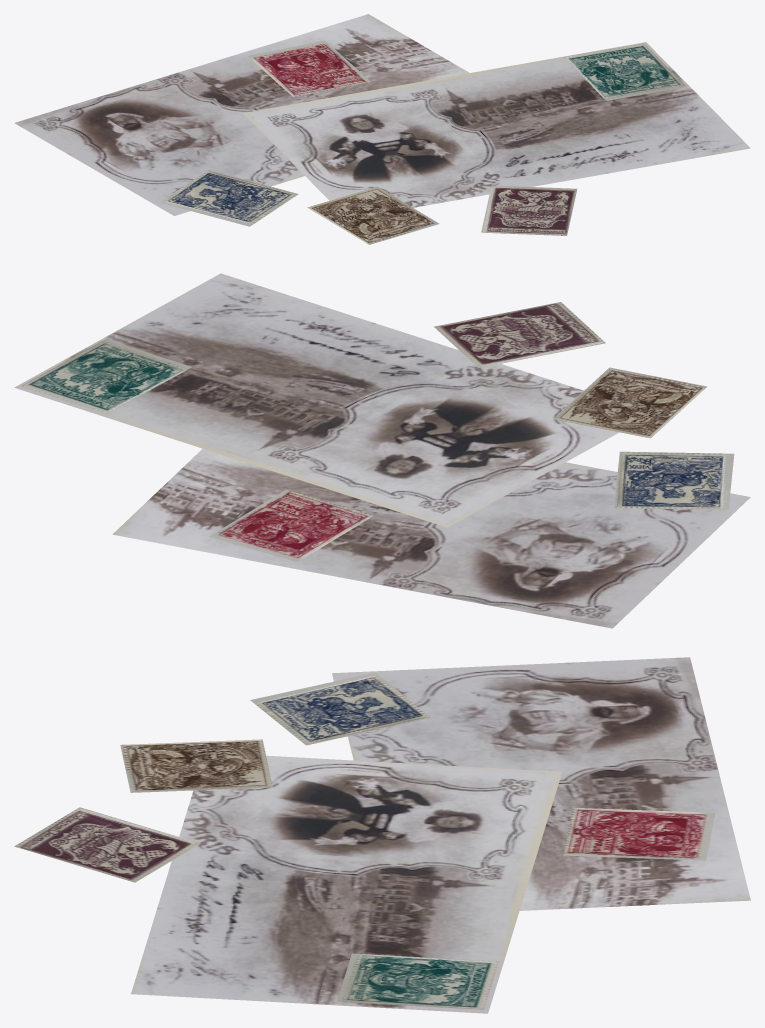
File: SM_Cartetimbre.fbx
3 renders of one model, top to bottom at view 1: azimuth 30°, elevation 25°; view 2: azimuth 150°, elevation 25°; view 3: azimuth 270°, elevation 25°, orthographic. The views are drawn at different scales.
Visible parts, largest first — view 1: cartepostale2, cartepostale, timbre.004, timbre.003, timbre.002, timbre.001, timbre; view 2: cartepostale2, cartepostale, timbre.004, timbre.003, timbre.002, timbre.001, timbre; view 3: cartepostale2, cartepostale, timbre.004, timbre.003, timbre.002, timbre.001, timbre.
Part boxes in pixels (box(x1,y1,x2,y2)): cartepostale2: box(243, 42, 750, 207); cartepostale: box(14, 14, 469, 215); timbre.004: box(159, 170, 298, 226); timbre.003: box(563, 43, 686, 100); timbre.002: box(481, 185, 577, 235); timbre.001: box(307, 186, 439, 244); timbre: box(247, 40, 370, 97); cartepostale2: box(14, 273, 619, 527); cartepostale: box(112, 449, 750, 628); timbre.004: box(614, 451, 734, 509); timbre.003: box(21, 339, 191, 413); timbre.002: box(434, 302, 605, 367); timbre.001: box(553, 367, 706, 438); timbre: box(209, 489, 373, 562); cartepostale2: box(131, 755, 562, 1013); cartepostale: box(332, 657, 750, 910); timbre.004: box(250, 672, 430, 745); timbre.003: box(337, 953, 498, 1009); timbre.002: box(14, 807, 200, 882); timbre.001: box(120, 739, 272, 792); timbre: box(563, 807, 715, 860).
Size of the model in its own units: 33.06 by 38.03 by 0.158.
Materials: 3 (3 with a texture image).
